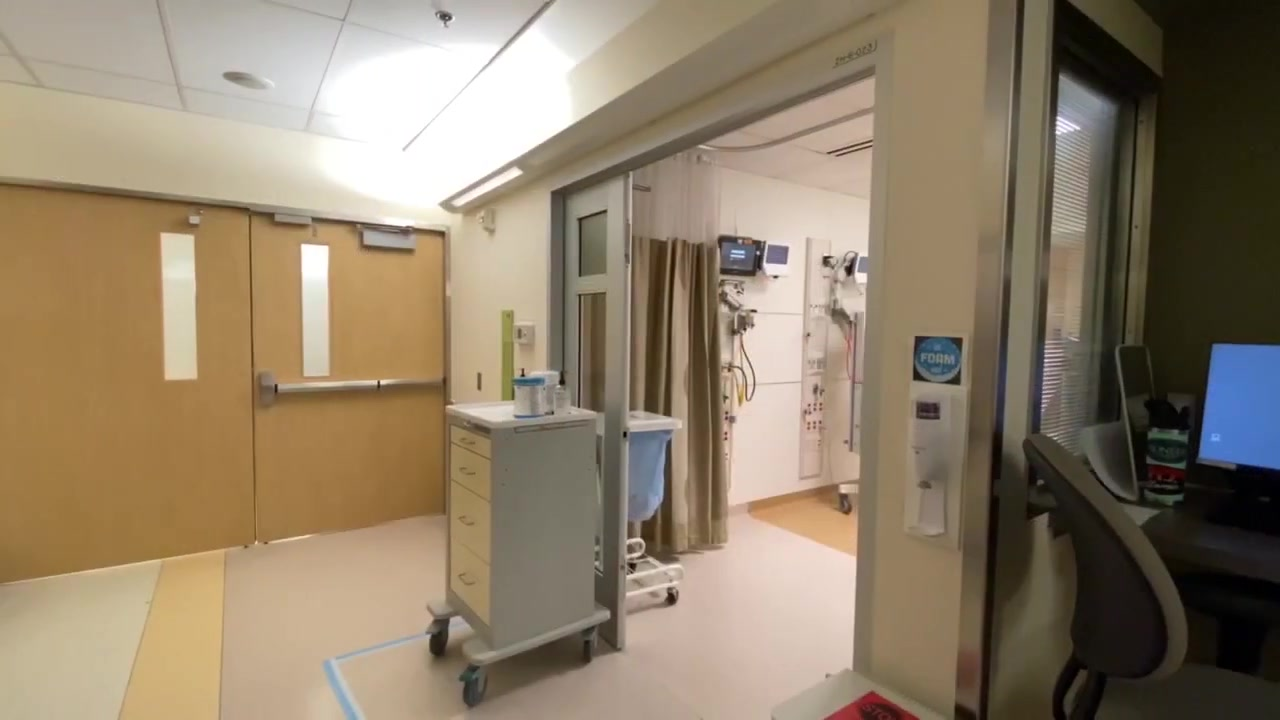bedside_monitor: (717, 236, 758, 279), (763, 240, 792, 276), (856, 254, 868, 282)
chair: (1002, 424, 1196, 720)
computer: (1194, 335, 1280, 471)
curtain: (635, 151, 730, 552)
dispenser: (902, 389, 963, 538), (553, 370, 572, 413)
handle: (454, 457, 483, 480), (454, 510, 476, 530), (460, 432, 477, 451), (457, 568, 473, 585)
medical_drawer: (442, 398, 608, 652)
push_latch: (277, 377, 443, 396)
waste_bin: (627, 409, 682, 603)
